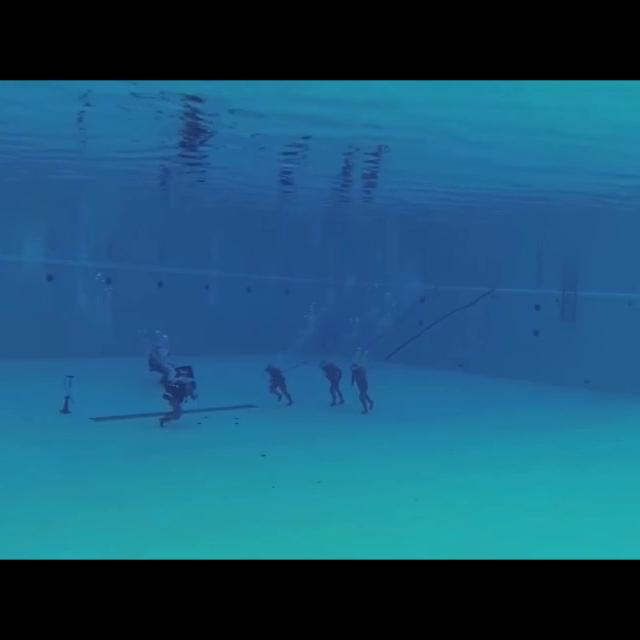human: (155, 374, 206, 433), (345, 351, 382, 422), (253, 355, 299, 412), (311, 350, 351, 412), (143, 326, 177, 384)
